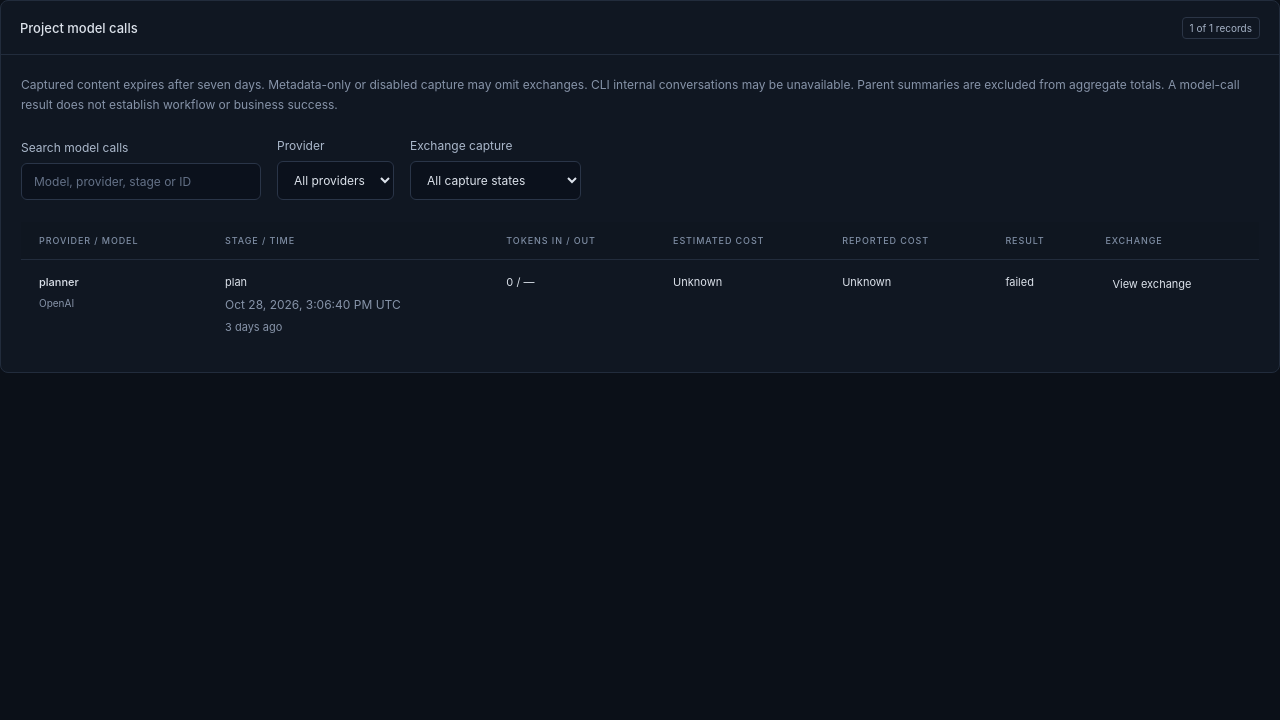
Test: reports expired capture errors and dismisses with close and backdrop
The image size is (1280, 720).
Click the button with aria-label "View exchange call-1" at (1152, 284), box [1105, 275, 1198, 293]
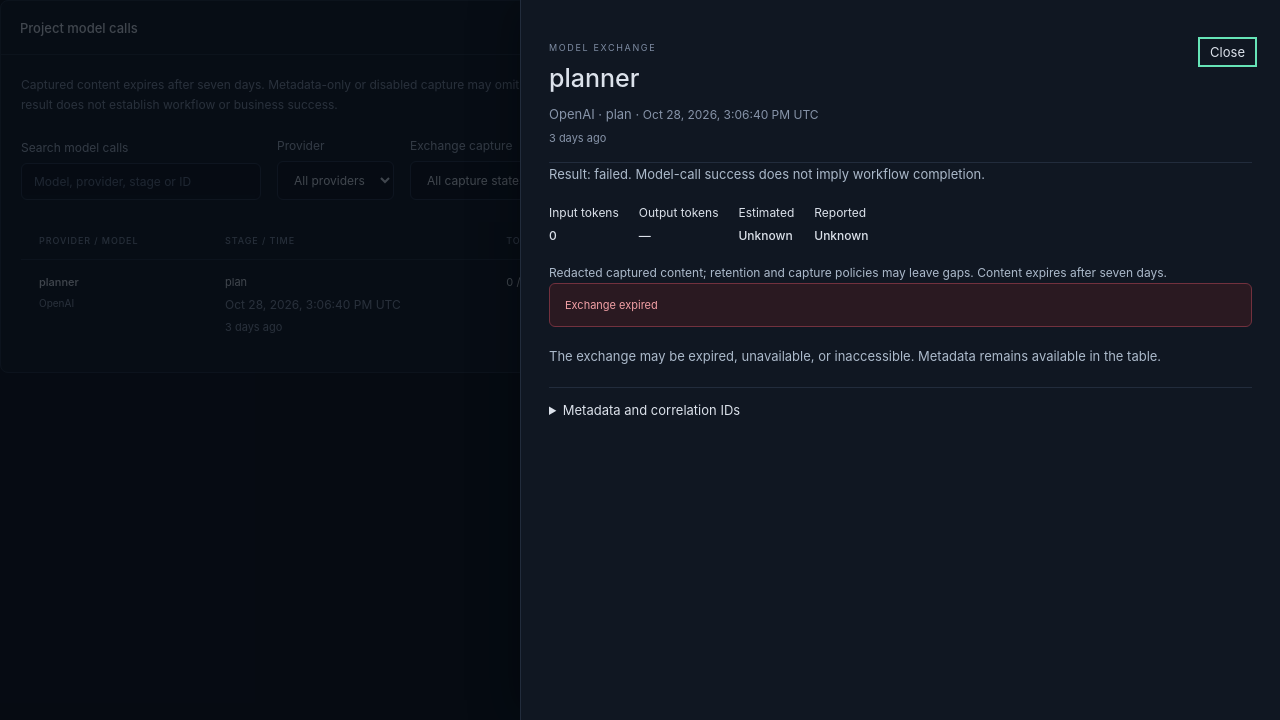
expect the text "Exchange expired" is shown: met, box [549, 283, 1252, 327]
Click the button with aria-label "Close exchange" at (1228, 52), box [1203, 42, 1252, 62]
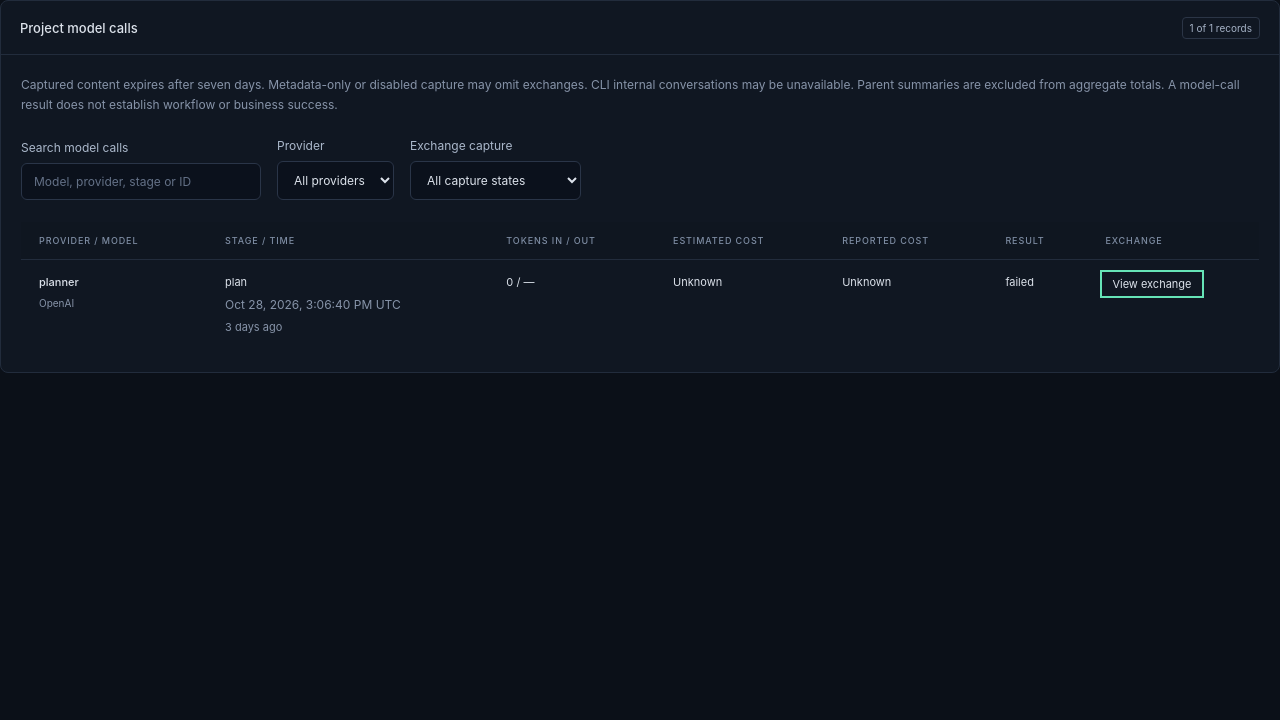
expect the dialog is gone: met
Click the button with aria-label "View exchange call-1" at (1152, 284), box [1105, 275, 1198, 293]
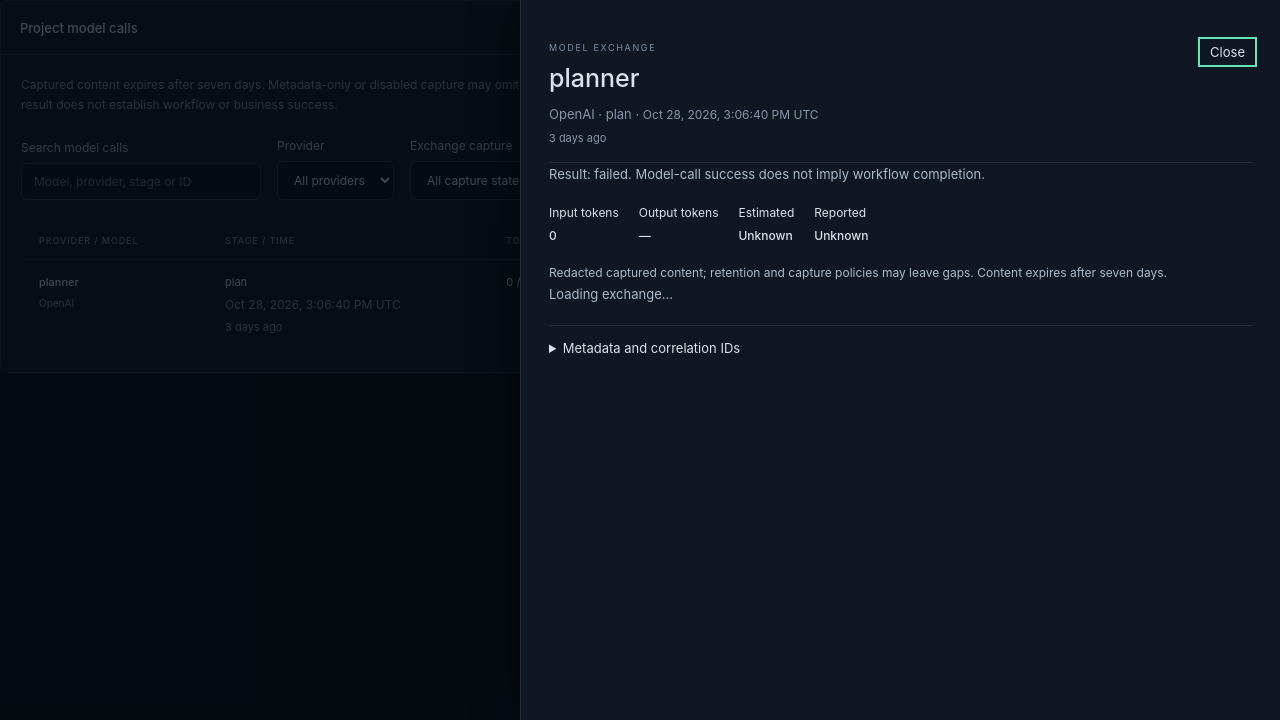
Click the element that starts with "MODEL EXCHANGE" at (77, 360), box [0, 0, 1279, 719]
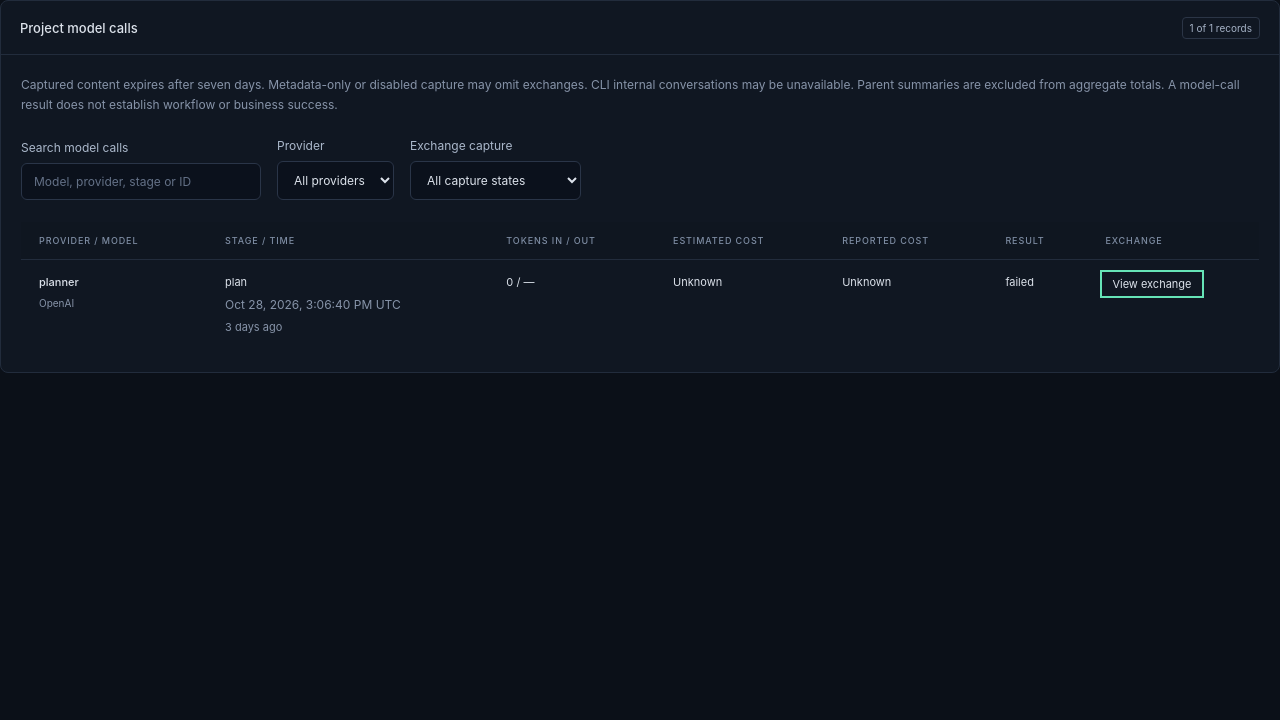
expect the dialog is gone: met
